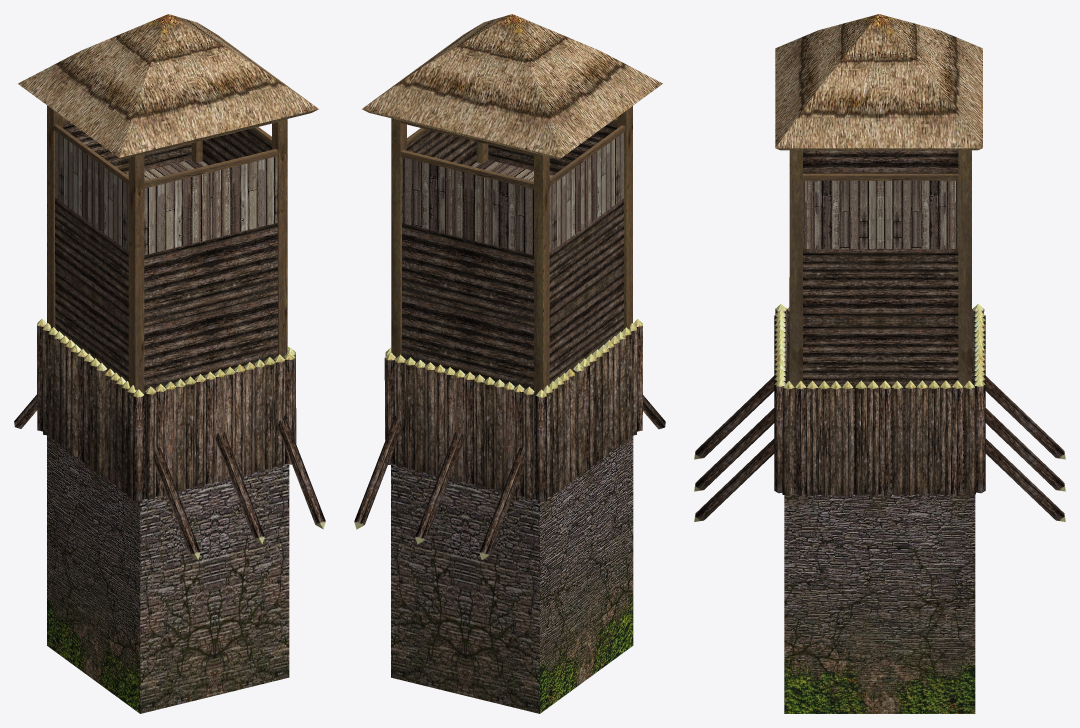
The model's file is wooden_wall_tower.dae.
3 renders of one model, left to right at view 1: azimuth 30°, elevation 25°; view 2: azimuth 150°, elevation 25°; view 3: azimuth 270°, elevation 25°, orthographic. The views are drawn at different scales.
Parts seen in each view (by area): view 1: Wall_tower_B; view 2: Wall_tower_B; view 3: Wall_tower_B.
Part boxes in pixels (box(x1,y1,x2,y2)): Wall_tower_B: box(14, 14, 325, 713); Wall_tower_B: box(354, 14, 665, 713); Wall_tower_B: box(694, 14, 1065, 713).
Bounding box in the file's own units: 10.65 × 16.74 × 32.93.
